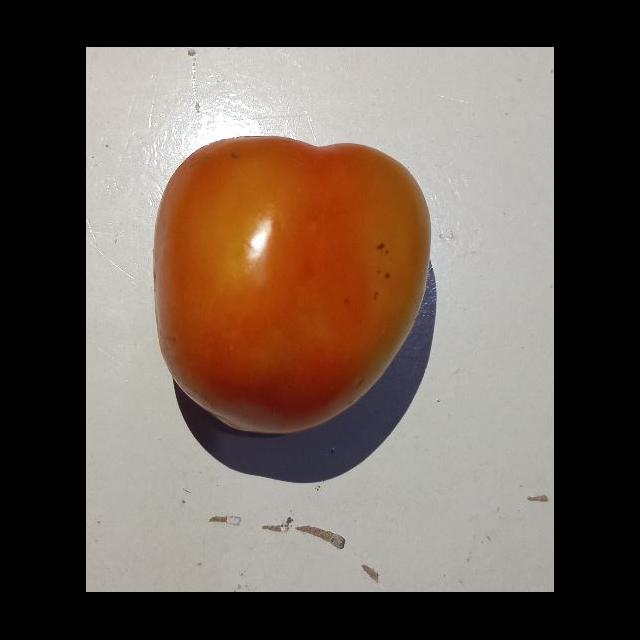tomato: (153, 130, 442, 456)
